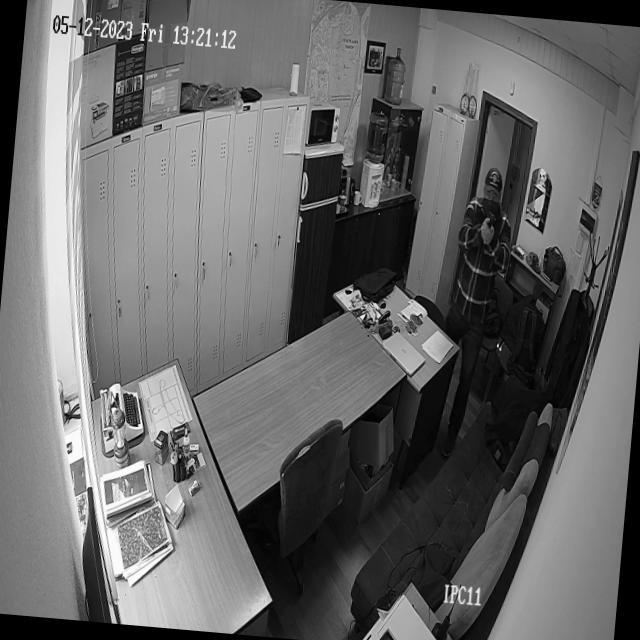gun: (486, 204, 504, 235)
person with a gun: (446, 151, 524, 356)
